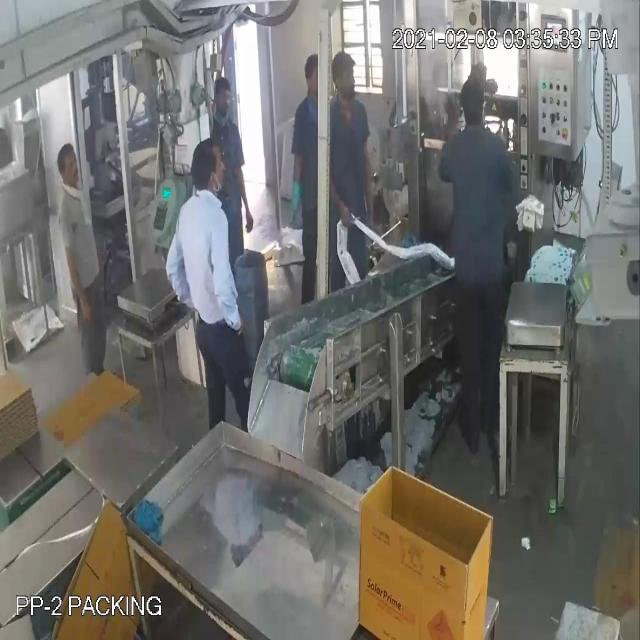gloves: (284, 154, 306, 237)
no-gloves: (211, 224, 250, 348), (62, 229, 101, 347), (166, 215, 198, 329), (234, 148, 256, 238), (358, 142, 380, 228)
